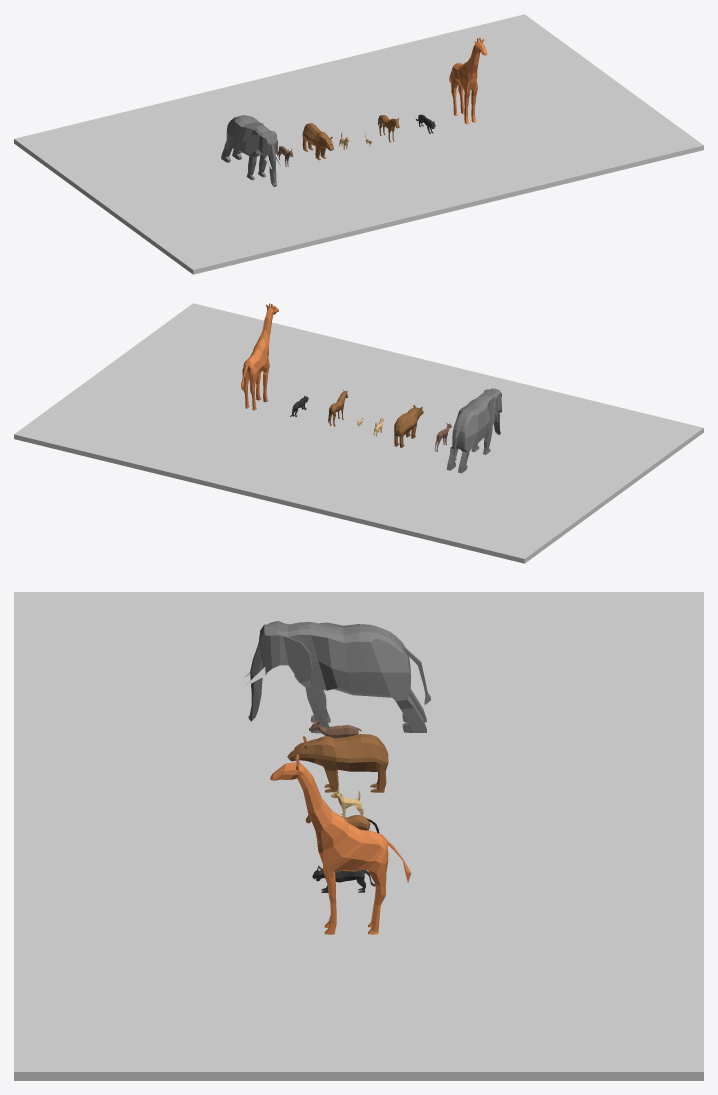
The picture shows the model from 3 angles, top to bottom: view 1: azimuth 30°, elevation 25°; view 2: azimuth 150°, elevation 25°; view 3: azimuth 270°, elevation 25°; orthographic projection. The views are drawn at different scales.
Parts seen in each view (by area): view 1: Cube, Plane.004, Plane.005, Plane; view 2: Cube, Plane.004, Plane.005, Plane; view 3: Cube, Plane.004, Plane.005, Plane.
Part boxes in pixels (x1,y1,x2,y2): Cube: [14, 14, 703, 274]; Plane.004: [221, 115, 281, 186]; Plane.005: [449, 37, 487, 124]; Plane: [302, 123, 333, 160]; Cube: [14, 303, 703, 563]; Plane.004: [446, 388, 505, 473]; Plane.005: [241, 303, 278, 410]; Plane: [394, 405, 423, 447]; Cube: [14, 592, 703, 1080]; Plane.004: [244, 621, 430, 733]; Plane.005: [270, 754, 411, 934]; Plane: [287, 734, 388, 792].
Size of the model in its own units: 42.87 by 7.63 by 26.05.
